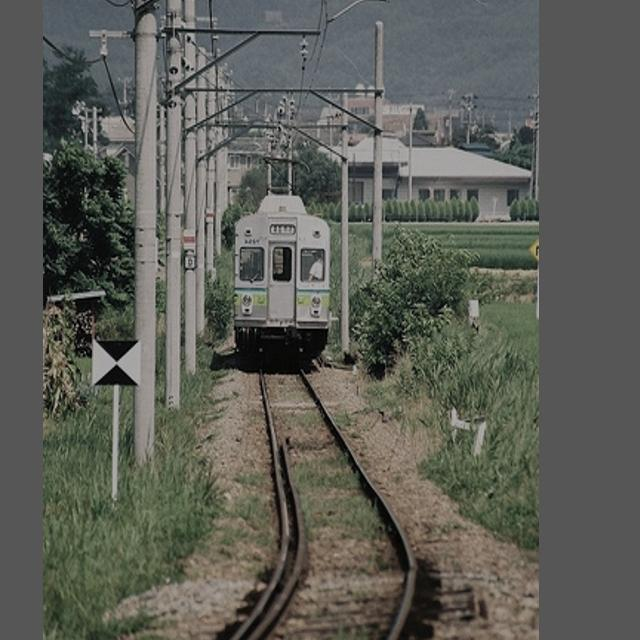train: (233, 194, 334, 372)
